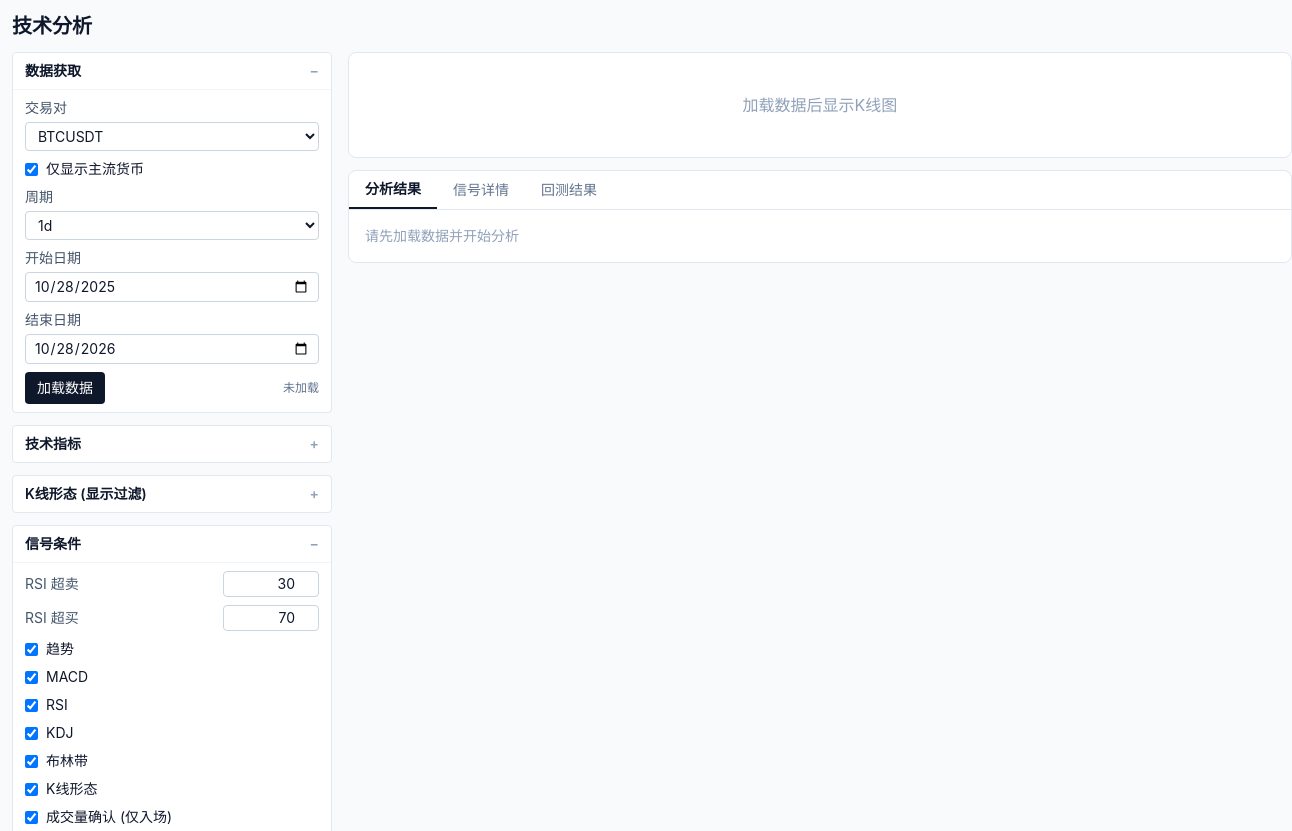
AnalysisPage › shows 502 detail when klines fail
The width and height of the screenshot is (1292, 831).
Click the button "加载数据" at (65, 388), box top-left (25, 372), bottom-right (105, 404)
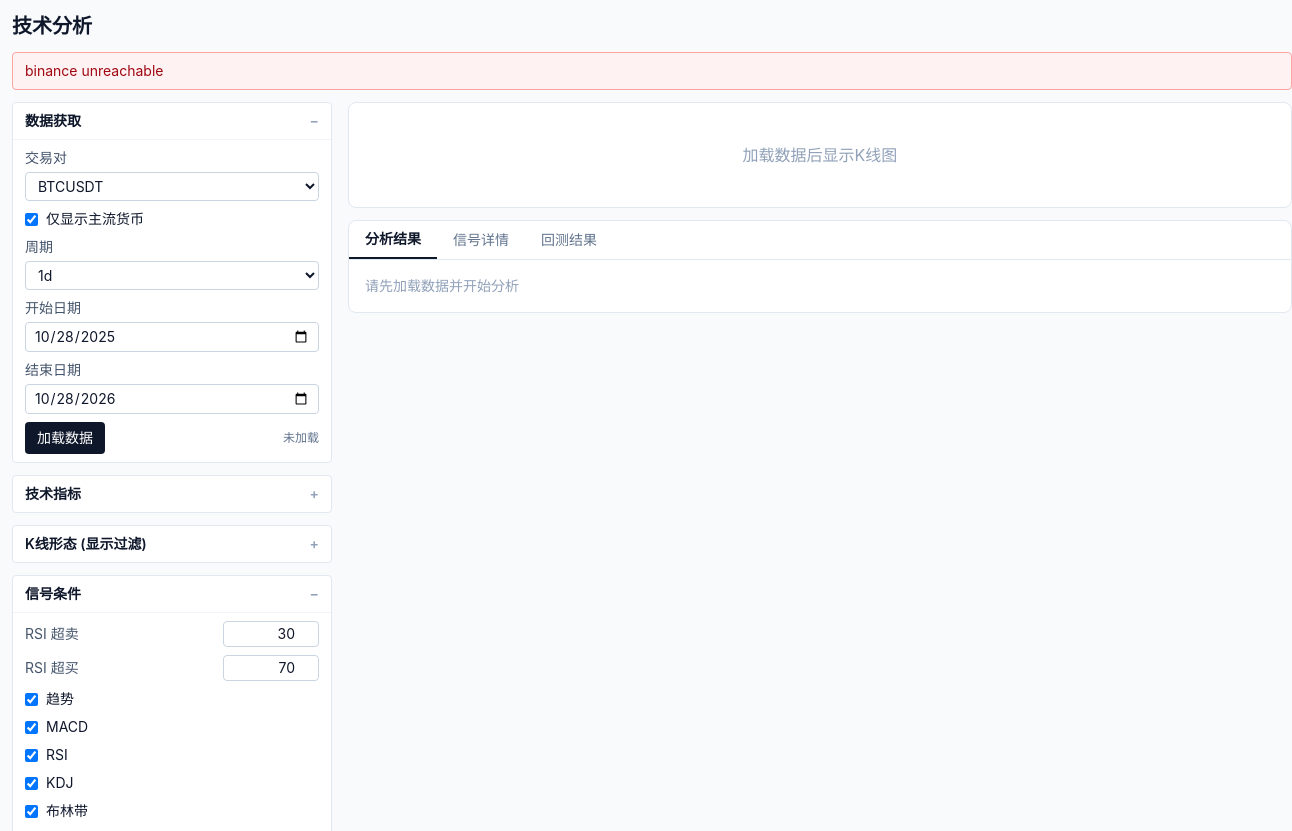
Now the message reads "binance unreachable", box top-left (25, 62), bottom-right (164, 79)
